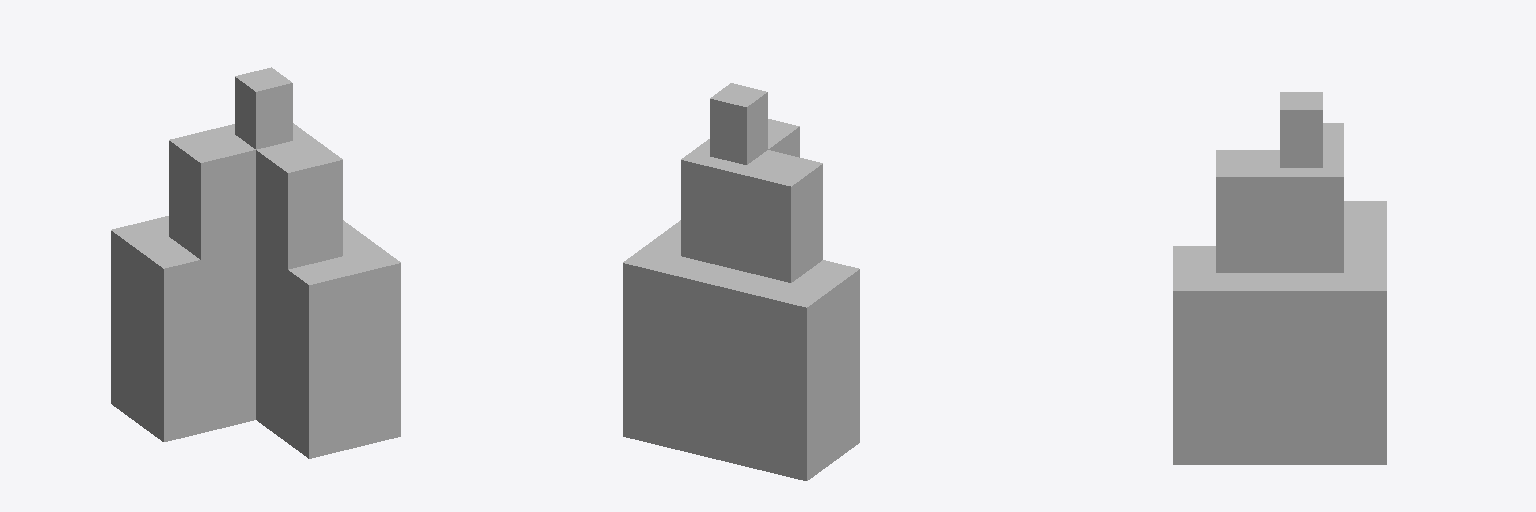
Rendered from fruit.obj.
3 renders of one model, left to right at view 1: azimuth 30°, elevation 25°; view 2: azimuth 150°, elevation 25°; view 3: azimuth 270°, elevation 25°, orthographic.
Bounding box in the file's own units: 10 × 17 × 10.